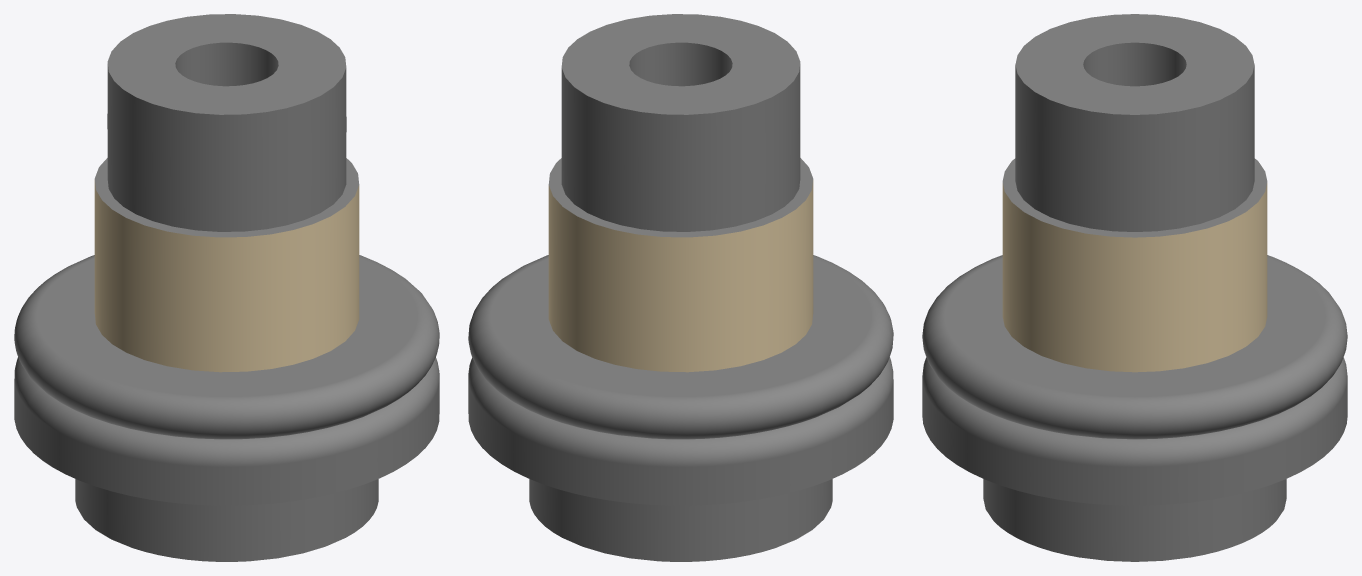
Rendered from Body23.001.dae.
3 views of the same model, side by side, from view 1: azimuth 30°, elevation 25°; view 2: azimuth 150°, elevation 25°; view 3: azimuth 270°, elevation 25° (orthographic).
Visible parts, largest first — view 1: Body23_000; view 2: Body23_000; view 3: Body23_000.
Boxes of the visible parts, x1,y1,x2,y2 form: Body23_000: [14, 14, 439, 561]; Body23_000: [468, 14, 893, 561]; Body23_000: [922, 14, 1347, 561].
Bounding box in the file's own units: 0.0329 × 0.0329 × 0.037.
